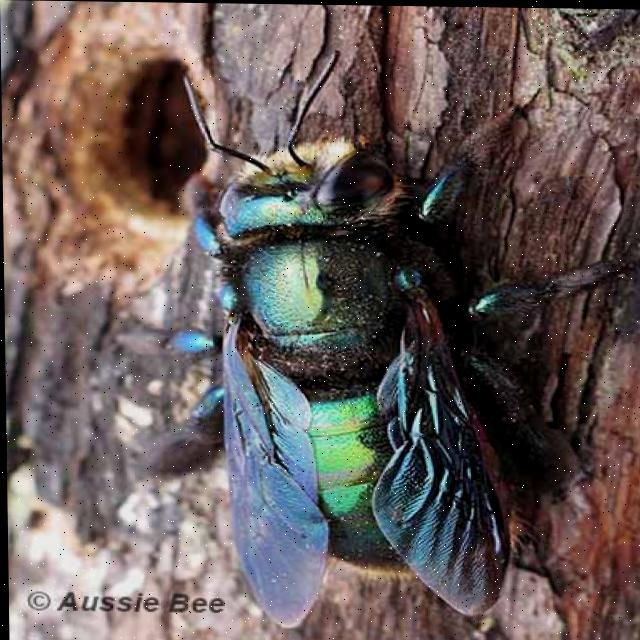Xylocopa: (131, 51, 632, 625)
